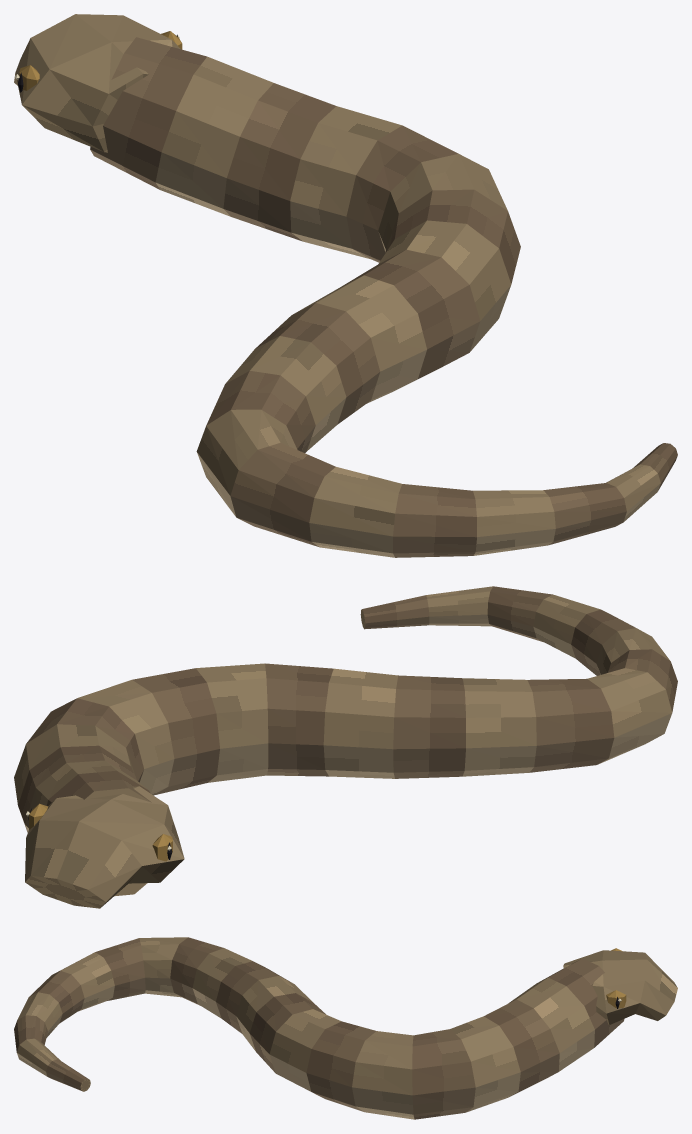
File: mon_rattlesnake_s.glb
The picture shows the model from 3 angles, top to bottom: view 1: azimuth 30°, elevation 25°; view 2: azimuth 150°, elevation 25°; view 3: azimuth 270°, elevation 25°; orthographic projection. The views are drawn at different scales.
Parts seen in each view (by area): view 1: closed_body; view 2: closed_body; view 3: closed_body.
Boxes of the visible parts, x1,y1,x2,y2 form: closed_body: [14, 14, 677, 557]; closed_body: [14, 586, 677, 908]; closed_body: [14, 937, 677, 1119].
Bounding box in the file's own units: 0.0685 × 0.0221 × 0.1302.
1 material, 1 textured.
